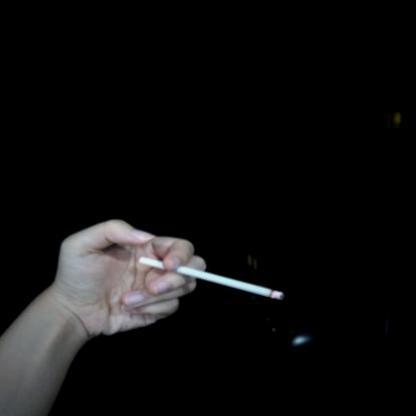cigarette: (136, 255, 289, 303)
